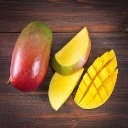mango: (7, 21, 51, 94)
